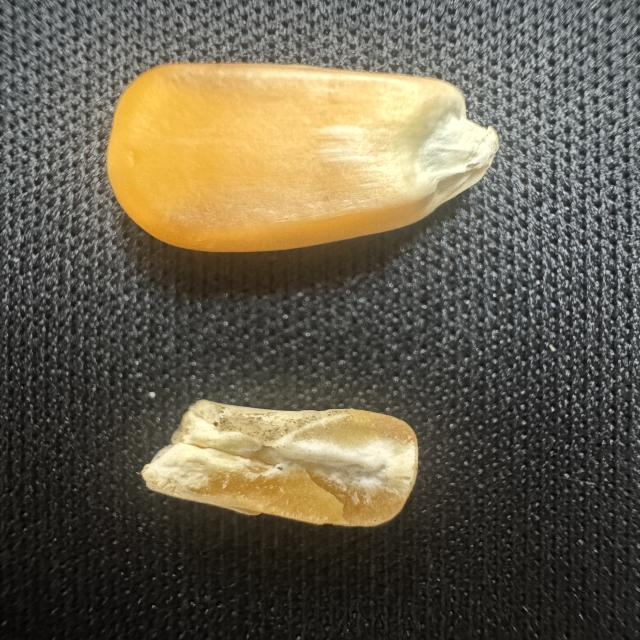Bad-Seed: (134, 388, 431, 542)
Good-Seed: (92, 53, 510, 258)
